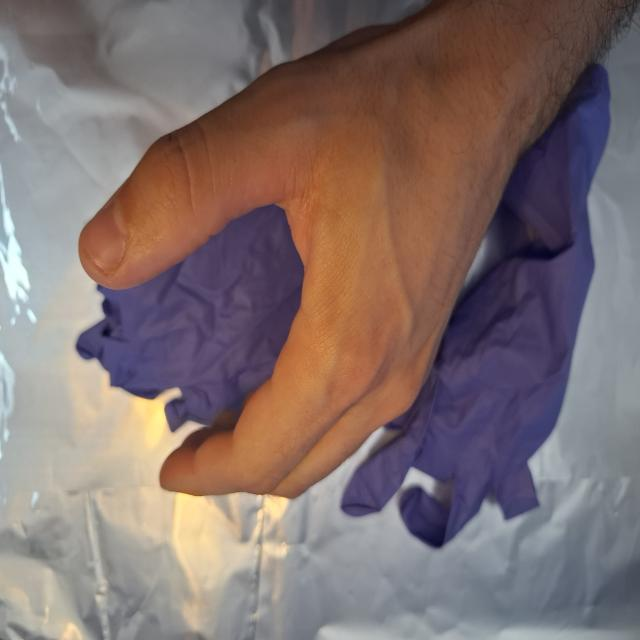glove_off: (76, 0, 526, 503)
